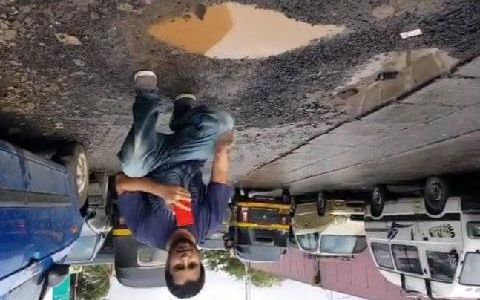pothole: (143, 1, 348, 64), (311, 48, 462, 120)
